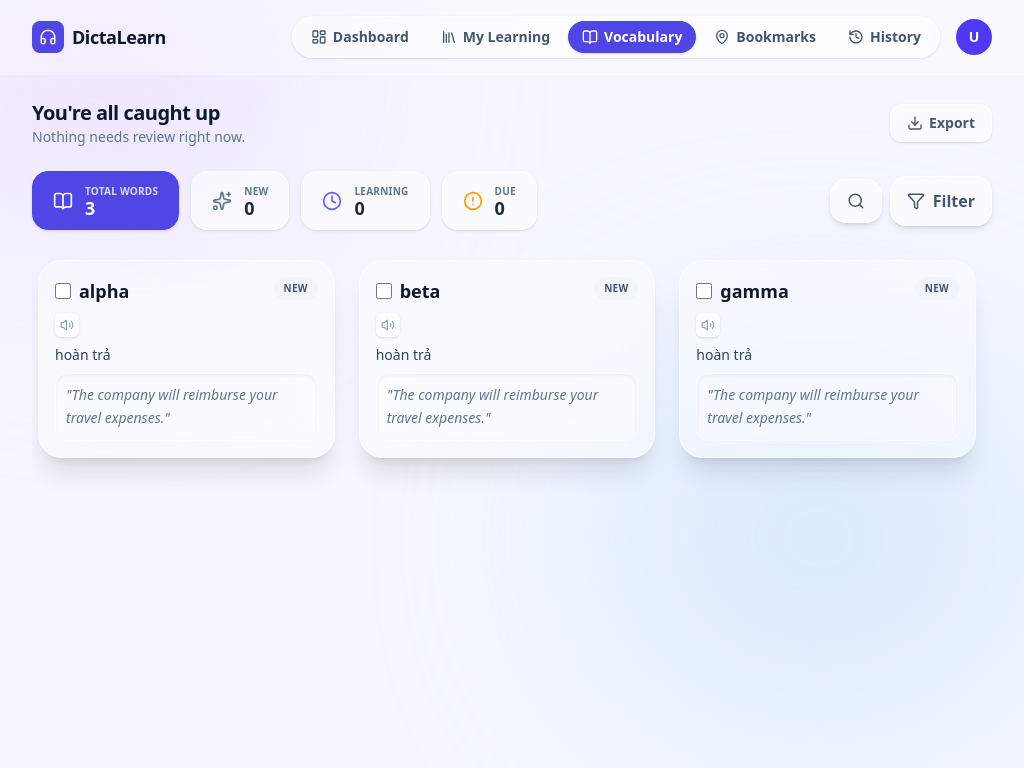
VocabularyPage › multi-select and bulk delete › checking a card's checkbox selects it without opening the inspector, and the bulk bar swaps in place
expect the number of elements with test id "vocab-card" is 3: met, box [38,260,335,458]; [359,260,655,458]; [679,260,976,458]
expect the button with test id "vocab-stat-total-words" is shown: met, box [32,171,179,230]
Click the checkbox named "Select alpha" at (63,291), box [55,283,71,299]
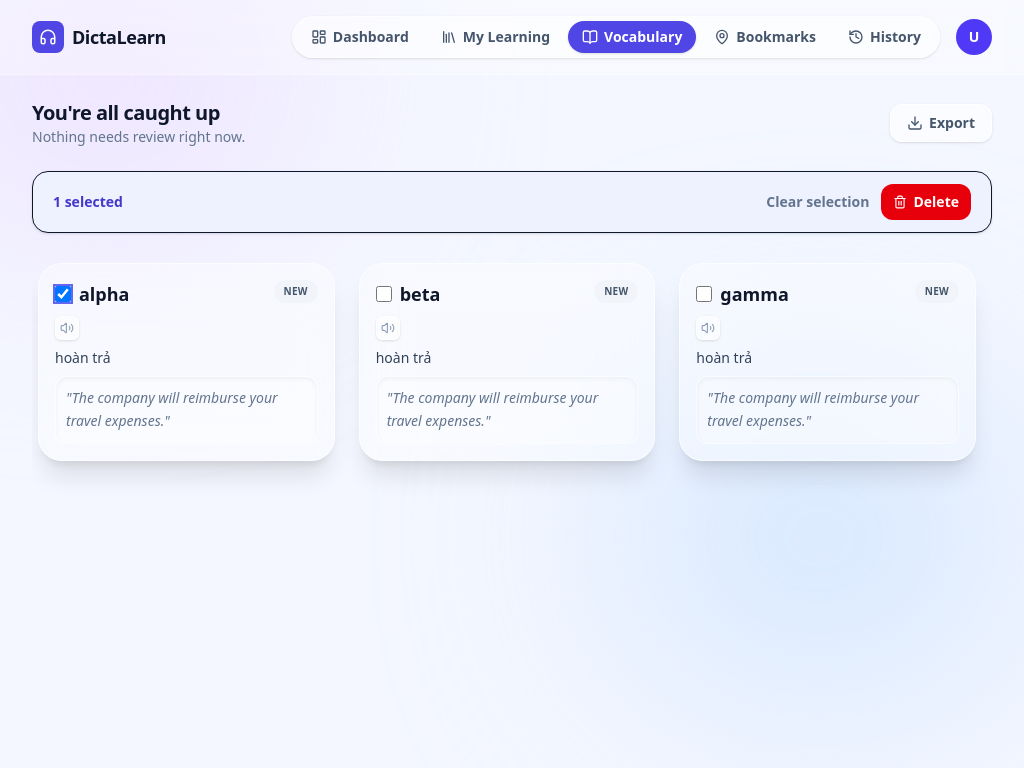
expect the element with test id "vocab-bulk-bar" shows "1 selected": met, box [32,171,992,233]
expect the button with test id "vocab-stat-total-words" is gone: met
